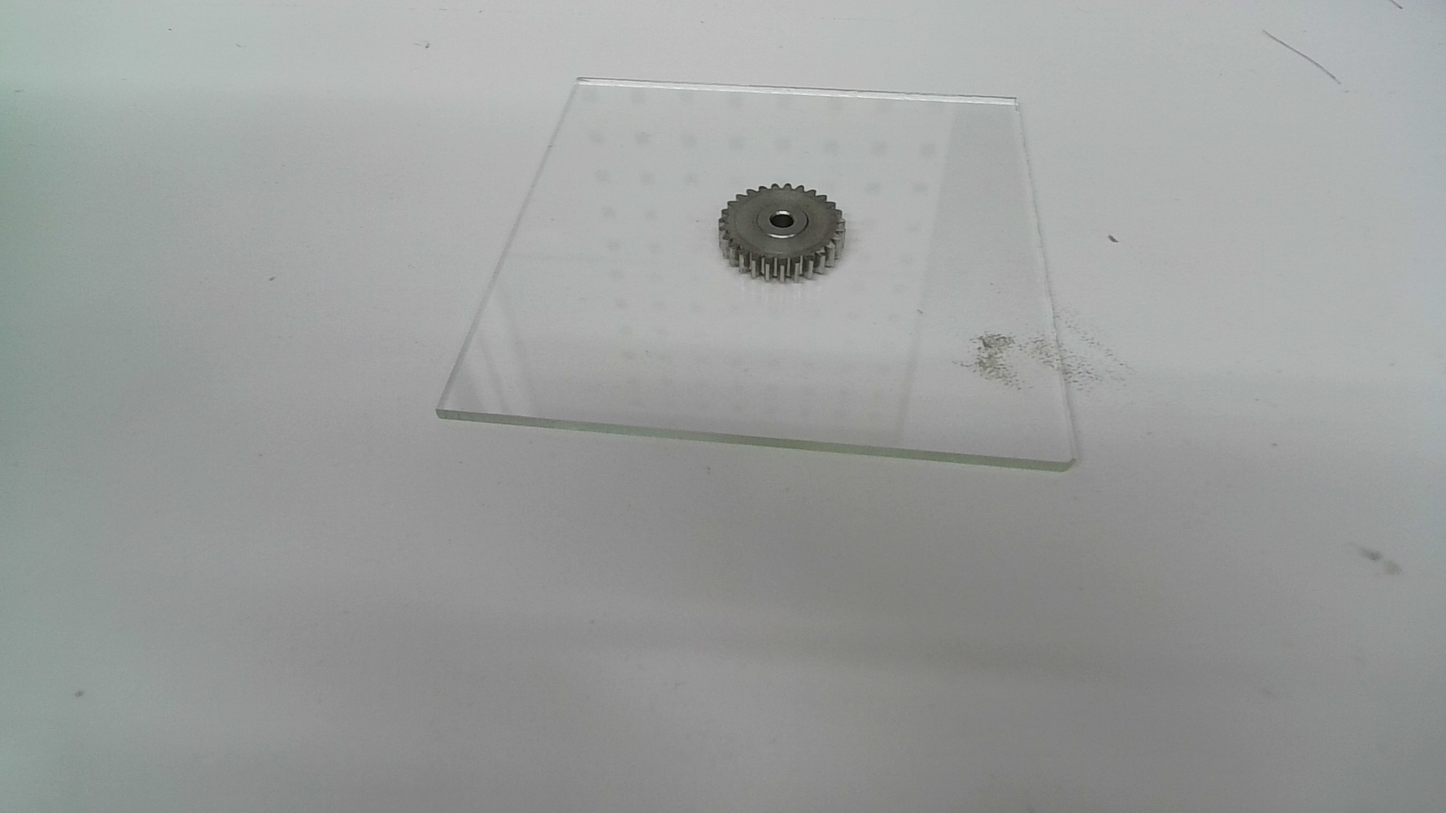gear: (716, 181, 849, 283)
